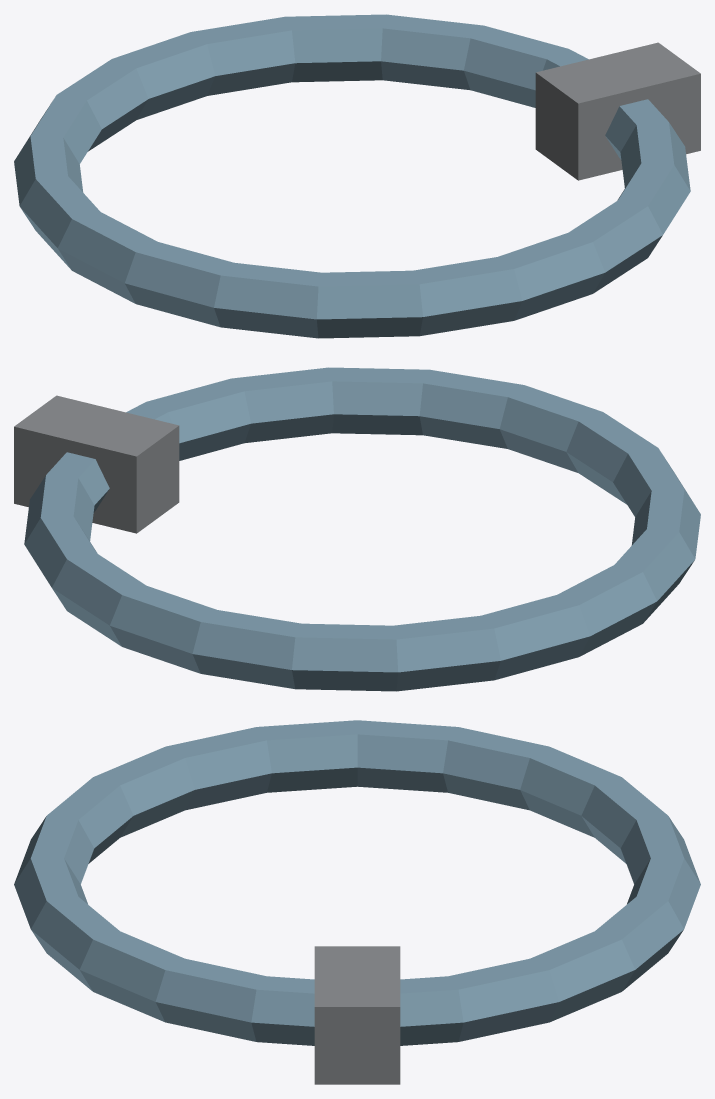
File: tourniquet-low.glb
3 views of the same model, one above another, from view 1: azimuth 30°, elevation 25°; view 2: azimuth 150°, elevation 25°; view 3: azimuth 270°, elevation 25° (orthographic).
Visible parts, largest first — view 1: tourniquet_band, tourniquet_buckle; view 2: tourniquet_band, tourniquet_buckle; view 3: tourniquet_band, tourniquet_buckle.
Part boxes in pixels (x1,y1,x2,y2): tourniquet_band: [14, 14, 690, 338]; tourniquet_buckle: [535, 42, 700, 180]; tourniquet_band: [24, 367, 700, 691]; tourniquet_buckle: [14, 395, 179, 533]; tourniquet_band: [14, 720, 700, 1045]; tourniquet_buckle: [314, 946, 400, 1084].
Size of the model in its own units: 1.52 by 0.18 by 1.44.
